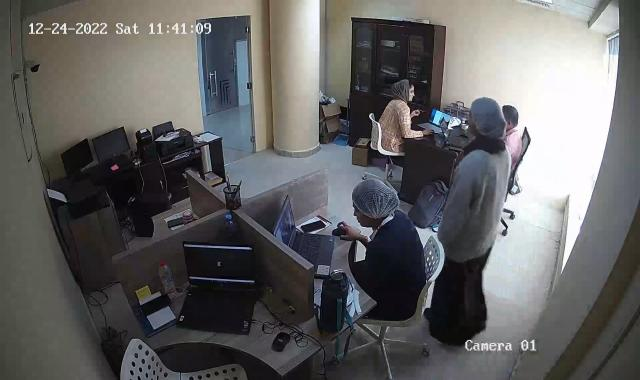hairnet: (349, 179, 400, 227), (466, 95, 506, 141)
no_hairnet: (391, 77, 414, 103)
